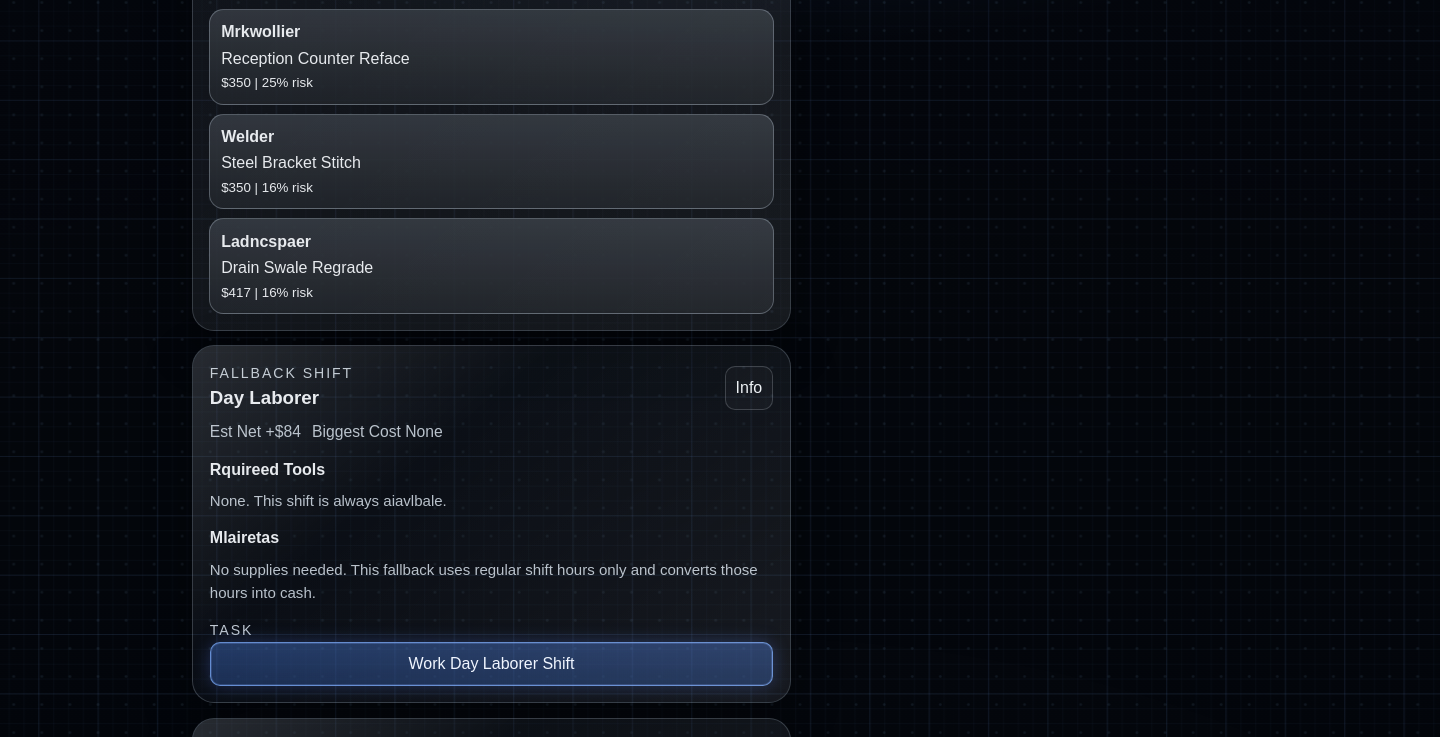
Scenario: compact shell ui › EH-TW-079: day labor detail copy clarifies regular shift hours only
The image size is (1440, 737).
(page scrolled)
What coordinates should you click on to do the following:
click the button "Info"
I would click on:
 (749, 388)
Its box is [725,366,773,410].
(page scrolled)
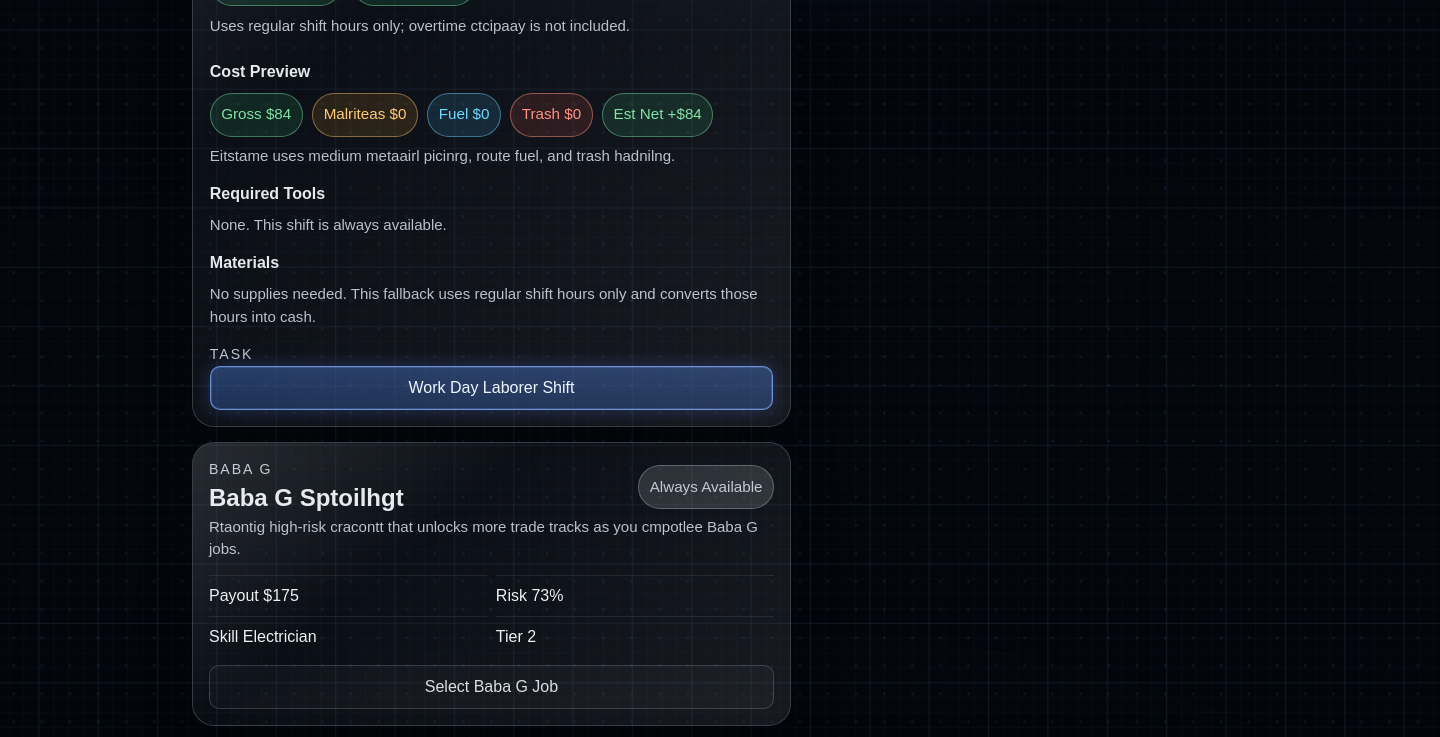
Expected: the button "Work Day Laborer Shift" is shown, [210,366,773,410]
Expected: the text "regular shift hours only" is shown, [210,17,630,34]
